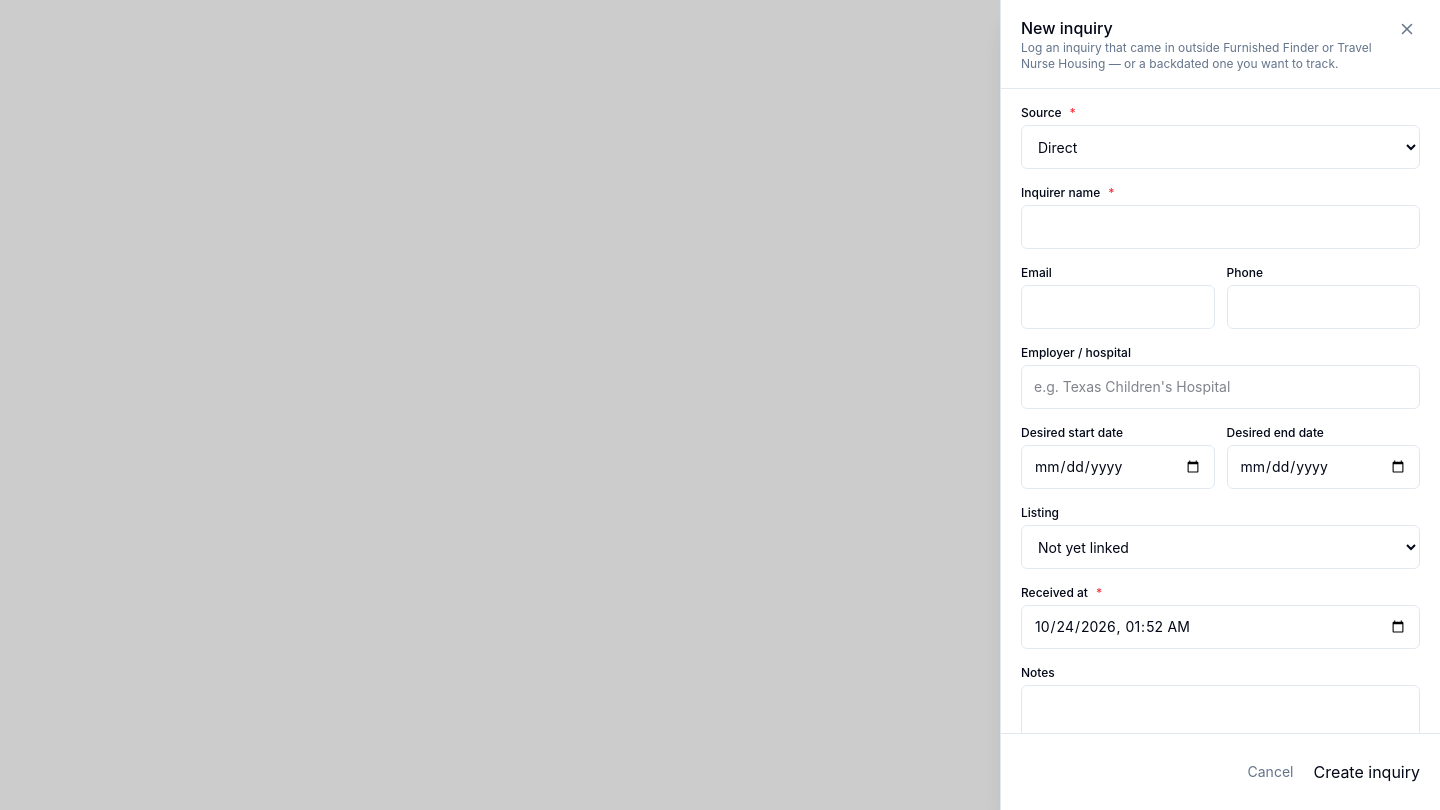
Test: InquiryForm › shows the external_inquiry_id field when source is FF
Step 1. Select "Furnished Finder" in the dropdown with test id "inquiry-form-source" → (1220, 147), box left=1021, top=125, right=1420, bottom=169
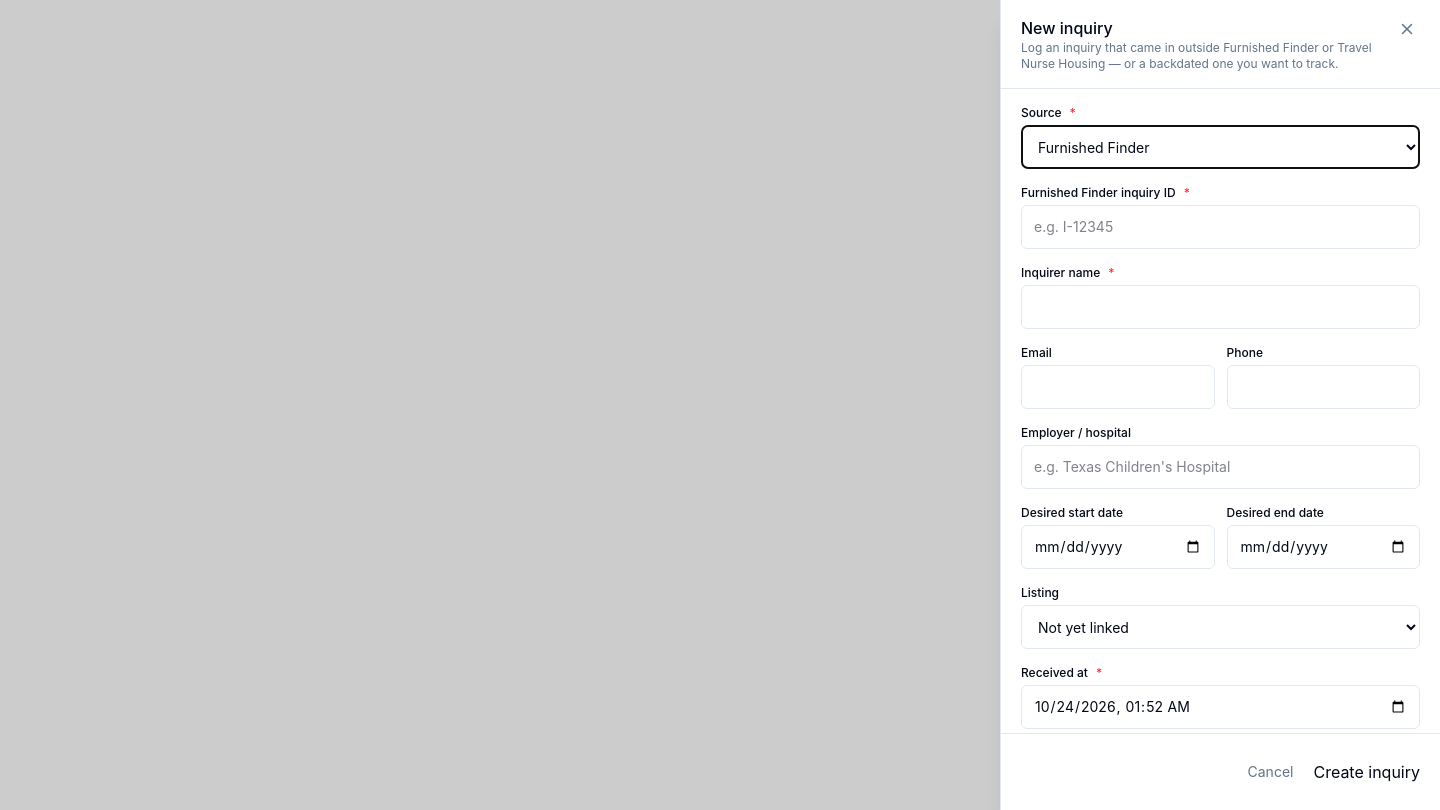
expect the field with test id "inquiry-form-external-id" is shown: met, box left=1021, top=205, right=1420, bottom=249
